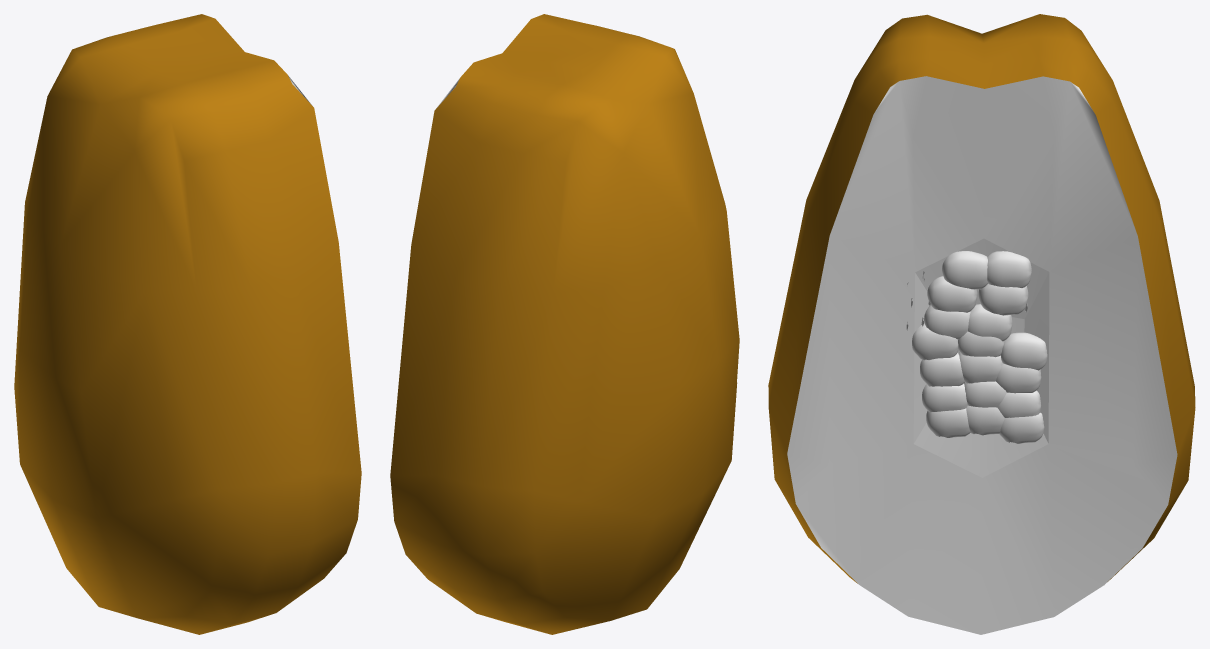
File: Mamão pronto e animado.FBX
The picture shows the model from 3 angles, left to right: view 1: azimuth 30°, elevation 25°; view 2: azimuth 150°, elevation 25°; view 3: azimuth 270°, elevation 25°; orthographic projection.
Parts seen in each view (by area): view 1: Box001; view 2: Box001; view 3: laranja, Box001, Sphere005.
Part boxes in pixels (left/top/right/bottom): Box001: left=14, top=14, right=361, bottom=634; Box001: left=390, top=14, right=739, bottom=634; laranja: left=787, top=76, right=1177, bottom=634; Box001: left=768, top=14, right=1195, bottom=583; Sphere005: left=912, top=251, right=1047, bottom=443.
Bounding box in the file's own units: 33.21 × 79.12 × 53.98.
